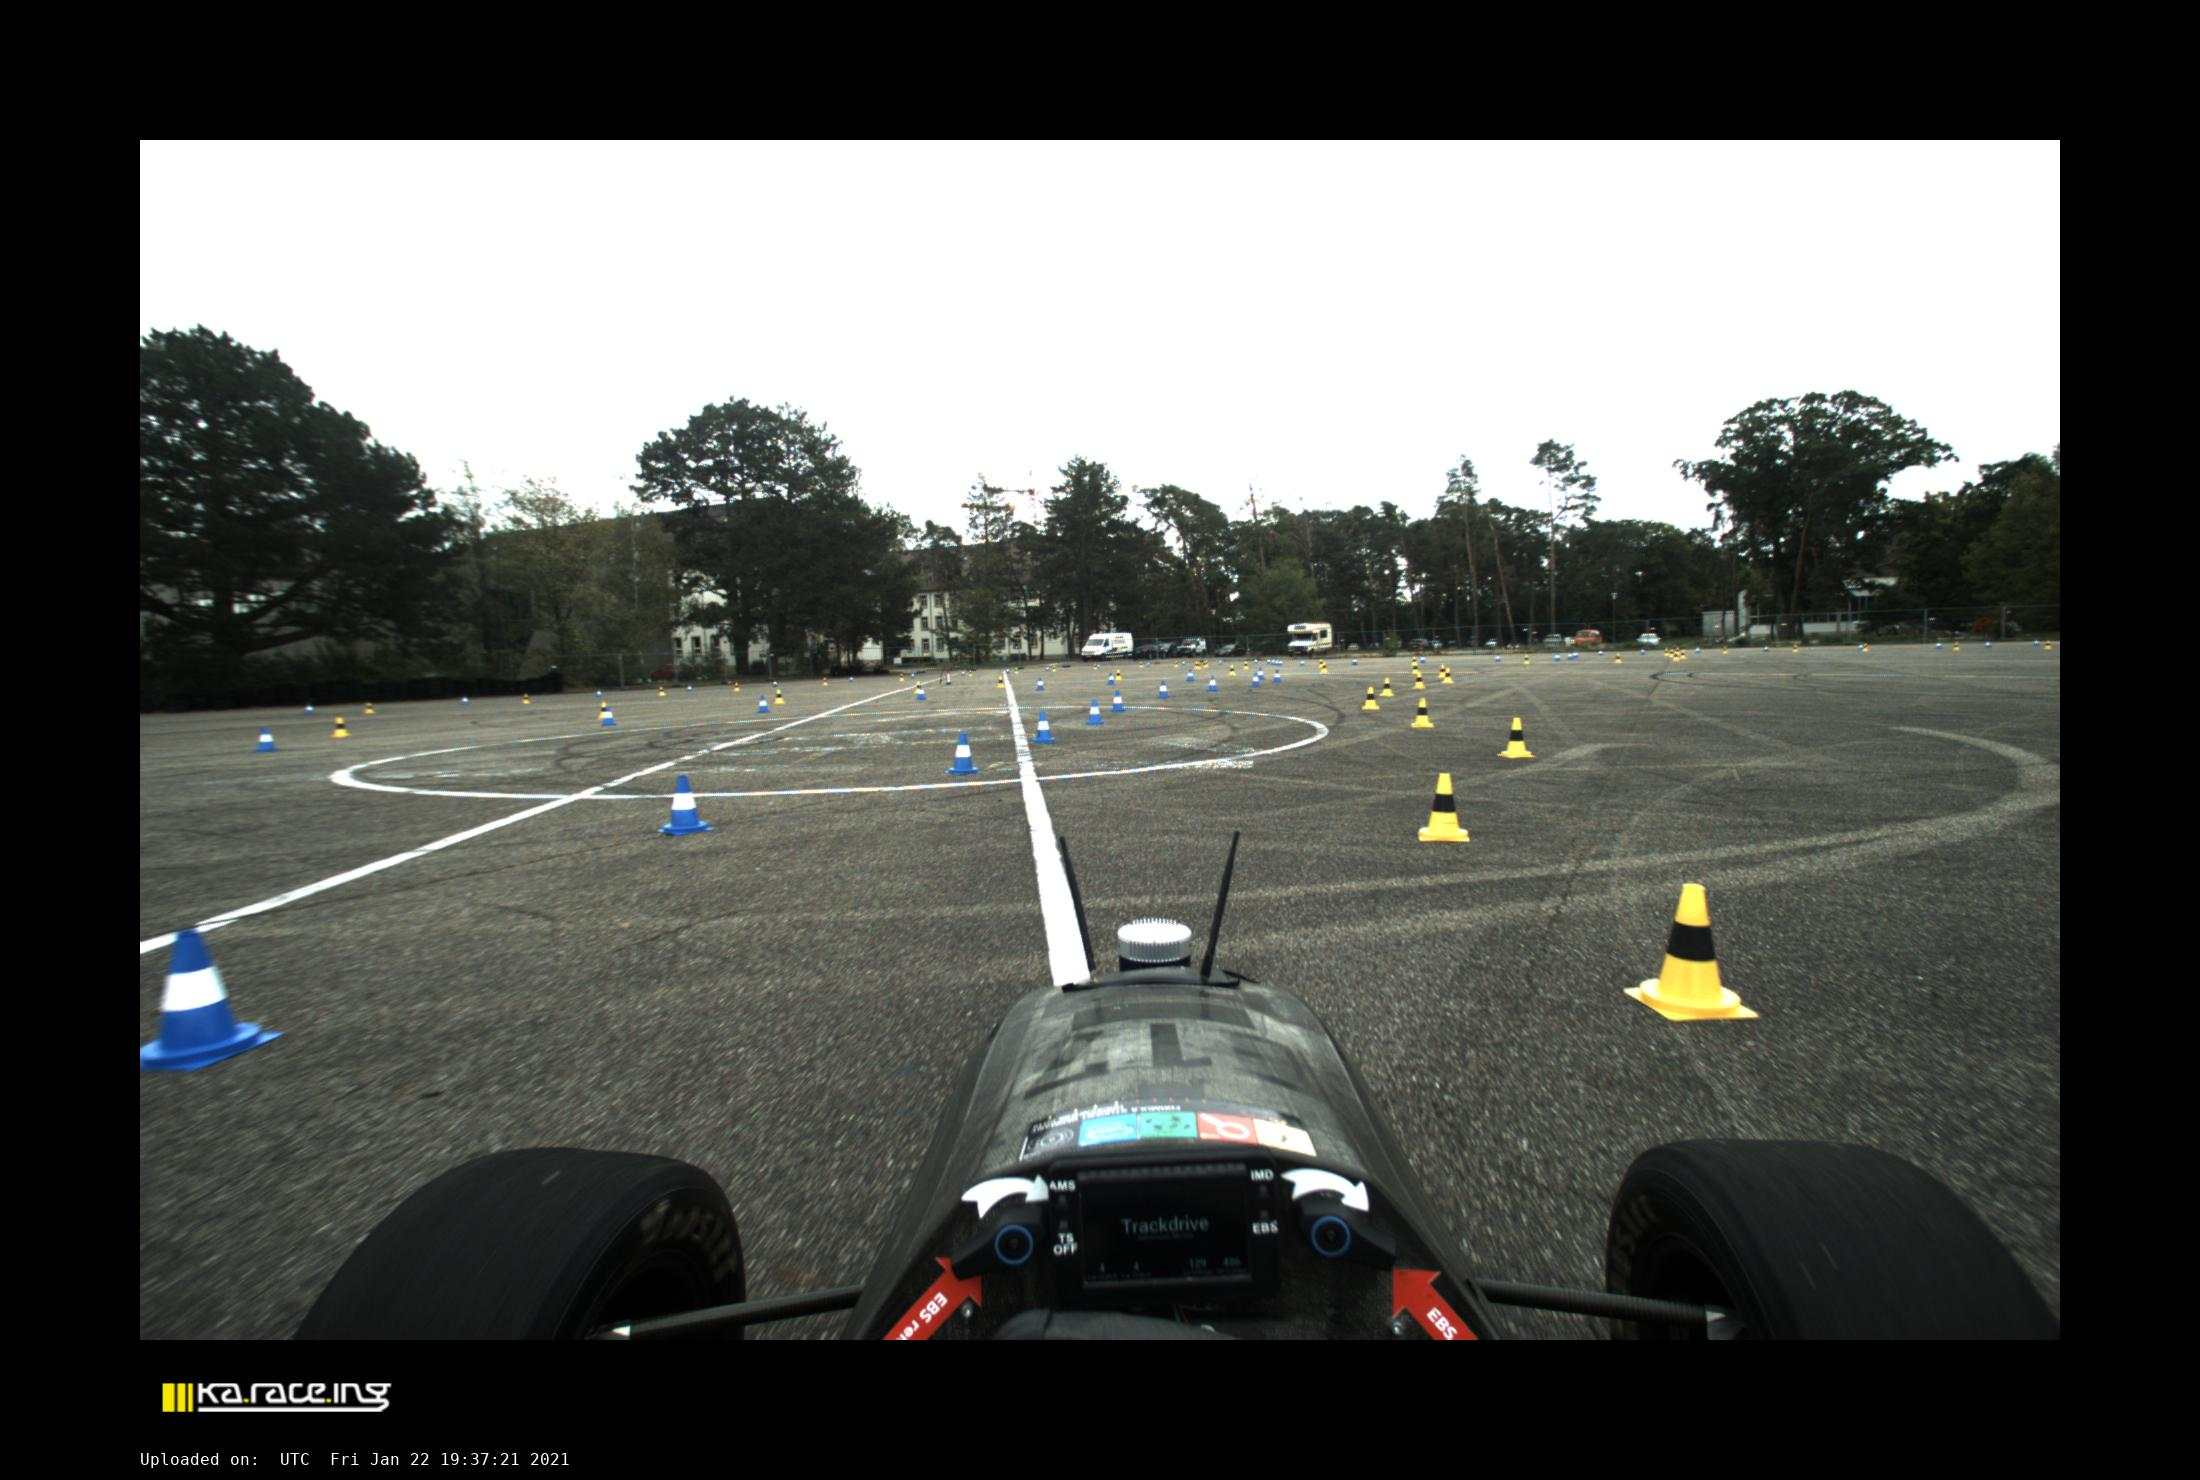blue_cone: (142, 933, 282, 1070), (659, 776, 715, 836), (945, 732, 979, 775), (1032, 710, 1055, 743), (253, 727, 279, 752), (1087, 700, 1103, 725), (600, 707, 618, 727), (1110, 690, 1126, 712), (756, 695, 770, 714), (1206, 676, 1219, 692), (1158, 681, 1169, 699), (1250, 672, 1262, 689), (1272, 669, 1283, 682), (1184, 669, 1196, 682), (1034, 677, 1045, 690), (302, 702, 315, 714), (917, 685, 927, 700), (1107, 672, 1117, 685), (1257, 667, 1265, 681), (461, 695, 469, 705), (1553, 652, 1561, 662), (771, 677, 778, 689), (685, 682, 692, 692), (1566, 651, 1572, 661), (1936, 639, 1942, 649), (595, 689, 601, 697), (1351, 657, 1358, 666), (1985, 639, 1990, 647)
yellow_cone: (1624, 884, 1761, 1022), (1419, 773, 1468, 842), (1496, 717, 1536, 758), (1411, 697, 1434, 728), (1361, 685, 1381, 710), (330, 717, 352, 737), (1379, 677, 1396, 697), (1412, 672, 1425, 689), (1440, 667, 1453, 684), (773, 689, 786, 704), (362, 702, 377, 714), (598, 700, 606, 719), (1437, 662, 1447, 677), (2041, 639, 2053, 651), (996, 676, 1006, 689), (520, 692, 530, 704), (1411, 662, 1420, 672), (1227, 664, 1235, 676), (1320, 662, 1328, 672), (657, 685, 666, 695), (1194, 661, 1202, 671), (1240, 661, 1249, 671), (1952, 641, 1961, 651), (1115, 669, 1121, 681), (1523, 656, 1529, 666), (733, 682, 740, 692), (1614, 652, 1620, 662), (1202, 659, 1209, 667), (1411, 656, 1417, 664), (898, 672, 903, 682), (823, 677, 827, 685)
